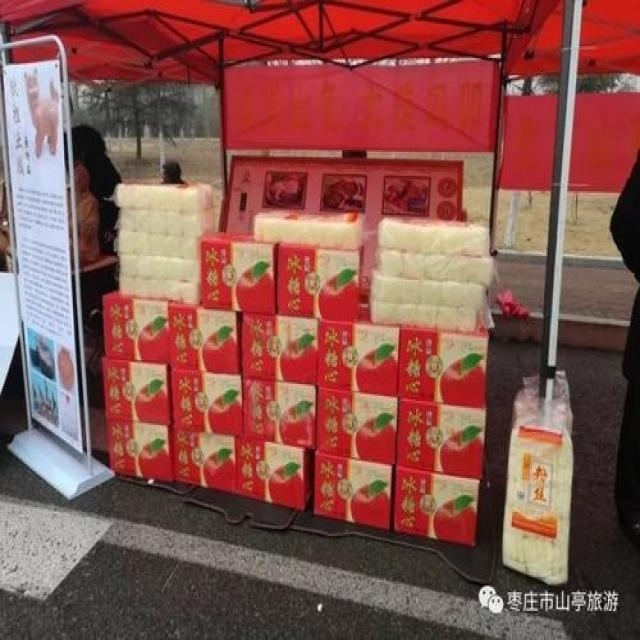box: (317, 307, 400, 396), (276, 241, 362, 323), (396, 399, 483, 479), (396, 329, 485, 407), (394, 468, 480, 547), (200, 231, 278, 314), (315, 389, 398, 465), (314, 451, 392, 528), (242, 313, 318, 386), (169, 298, 242, 373), (236, 440, 313, 510), (104, 288, 173, 366), (242, 377, 317, 448), (103, 354, 174, 426), (170, 369, 243, 436), (173, 428, 236, 492), (107, 420, 173, 480)
